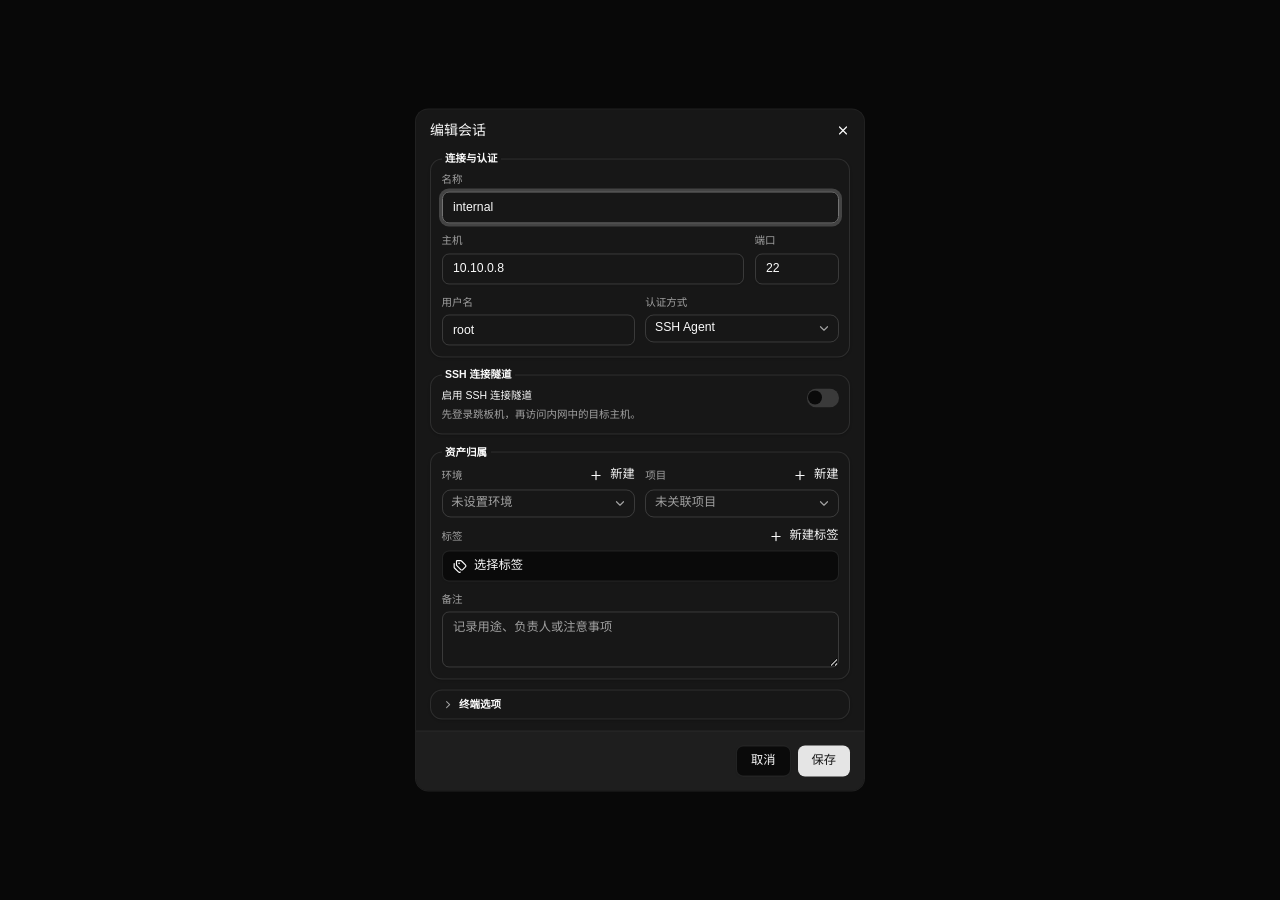
Test: SessionDialog SSH jump host › validates jump credentials on submit even if browser validation is bypassed
Click the switch named "启用 SSH 连接隧道" at (822, 398), box [806,389,838,407]
(page scrolled)
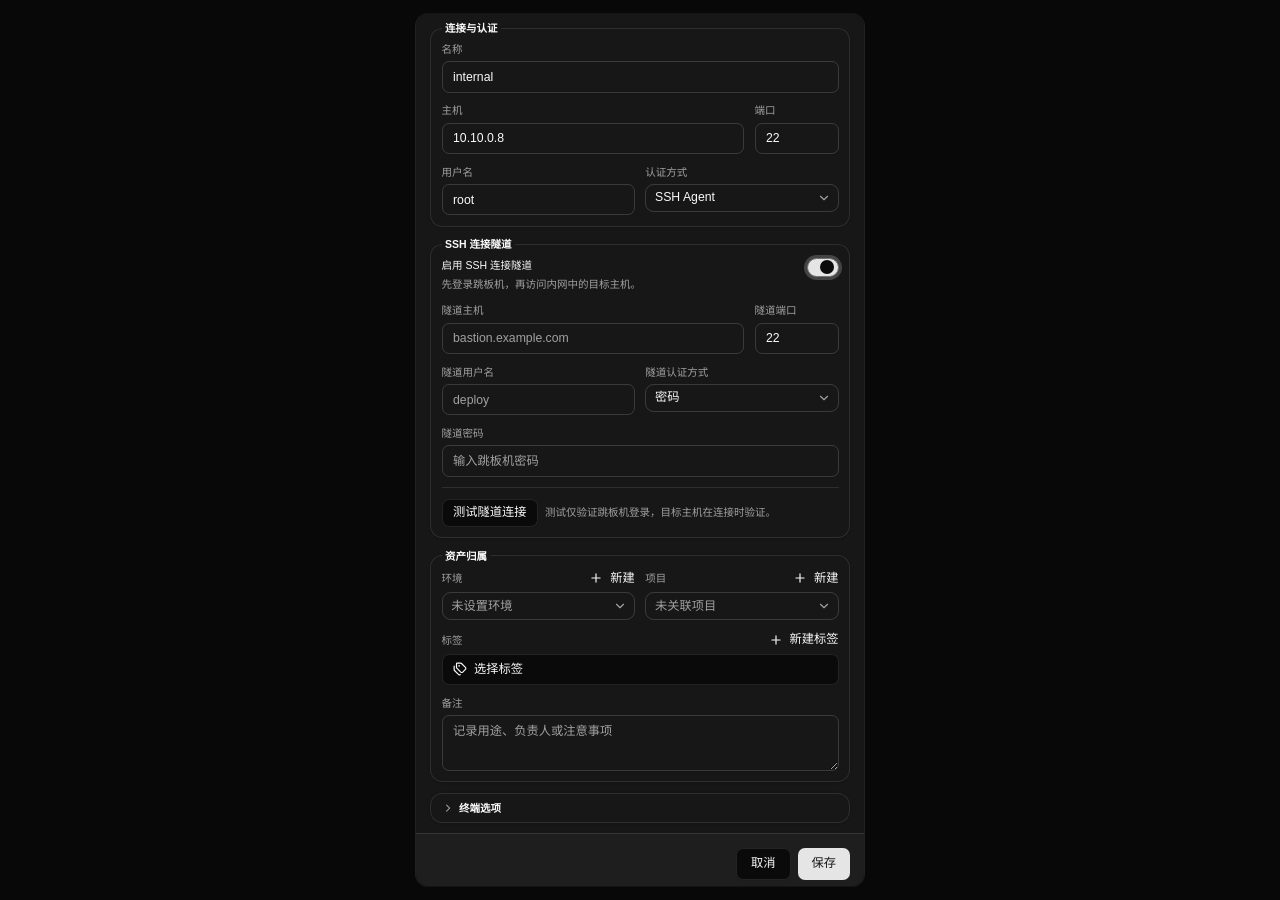
Submit the form named "保存", box [430,21,850,880]
(page scrolled)
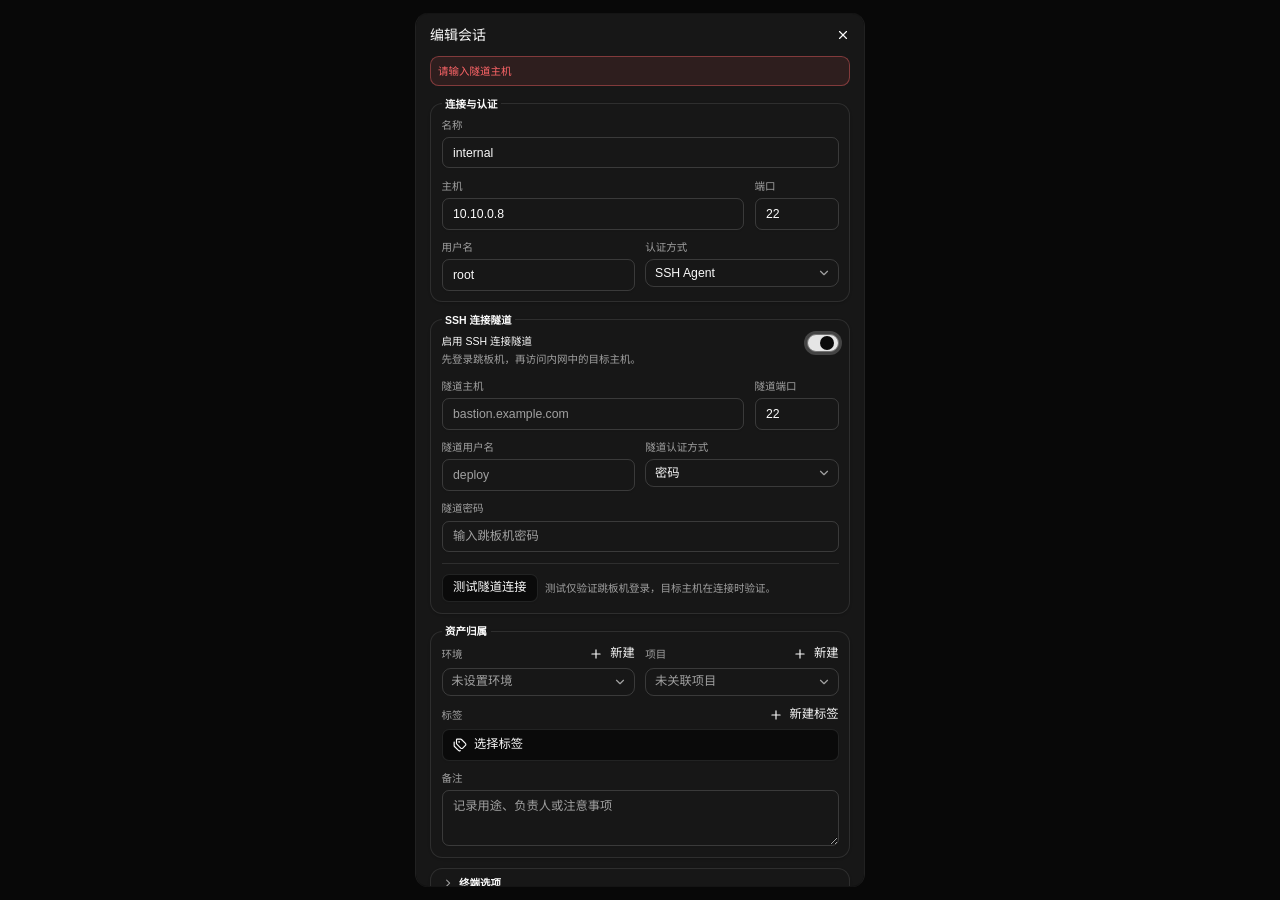
Result: the message reads "请输入隧道主机" at [438,65,512,77]
